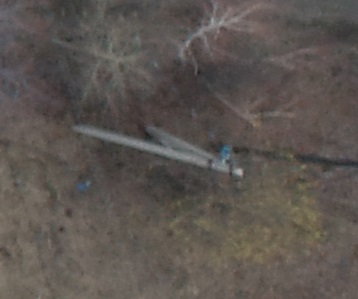opora: (72, 108, 249, 180)
